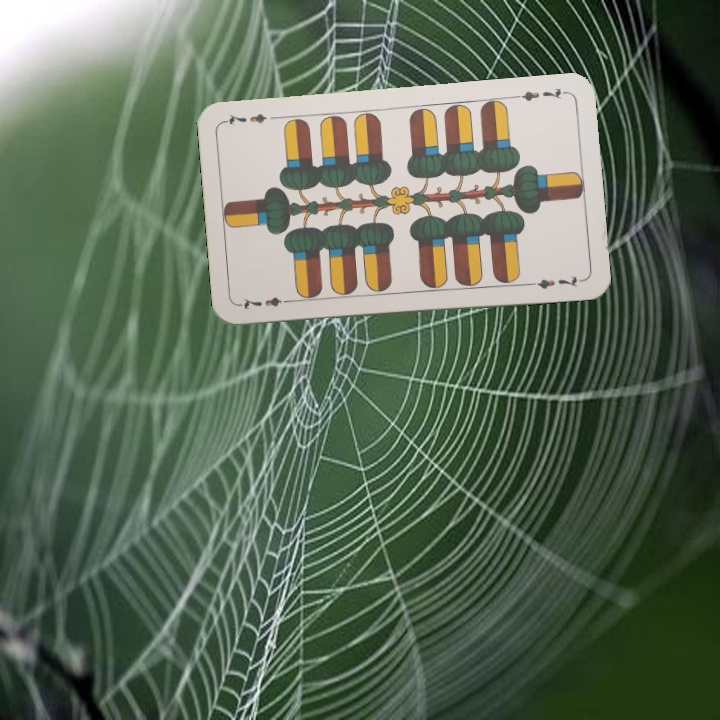E7: (510, 84, 569, 104), (236, 292, 295, 311)
